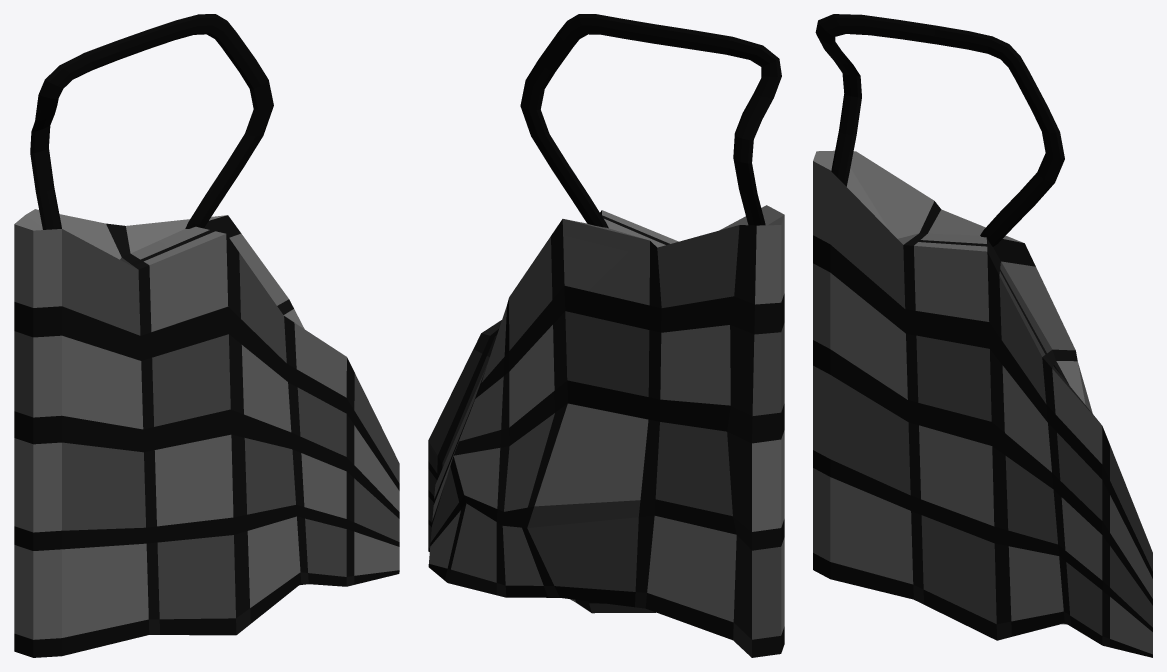
Rendered from ApronModel.fbx.
The picture shows the model from 3 angles, left to right: view 1: azimuth 30°, elevation 25°; view 2: azimuth 150°, elevation 25°; view 3: azimuth 330°, elevation 25°; orthographic projection. The views are drawn at different scales.
Parts seen in each view (by area): view 1: ApronModel; view 2: ApronModel; view 3: ApronModel.
Boxes of the visible parts, x1,y1,x2,y2 form: ApronModel: (14, 14, 399, 657); ApronModel: (428, 14, 784, 657); ApronModel: (813, 14, 1152, 657).
Bounding box in the file's own units: 61.5 × 98 × 9.87.
